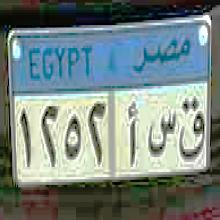1: (18, 99, 34, 173)
2: (87, 100, 108, 170), (40, 98, 59, 174)
5: (63, 112, 82, 166)
alif: (126, 96, 140, 174)
qaaf: (178, 95, 206, 164)
seen: (144, 108, 178, 164)
